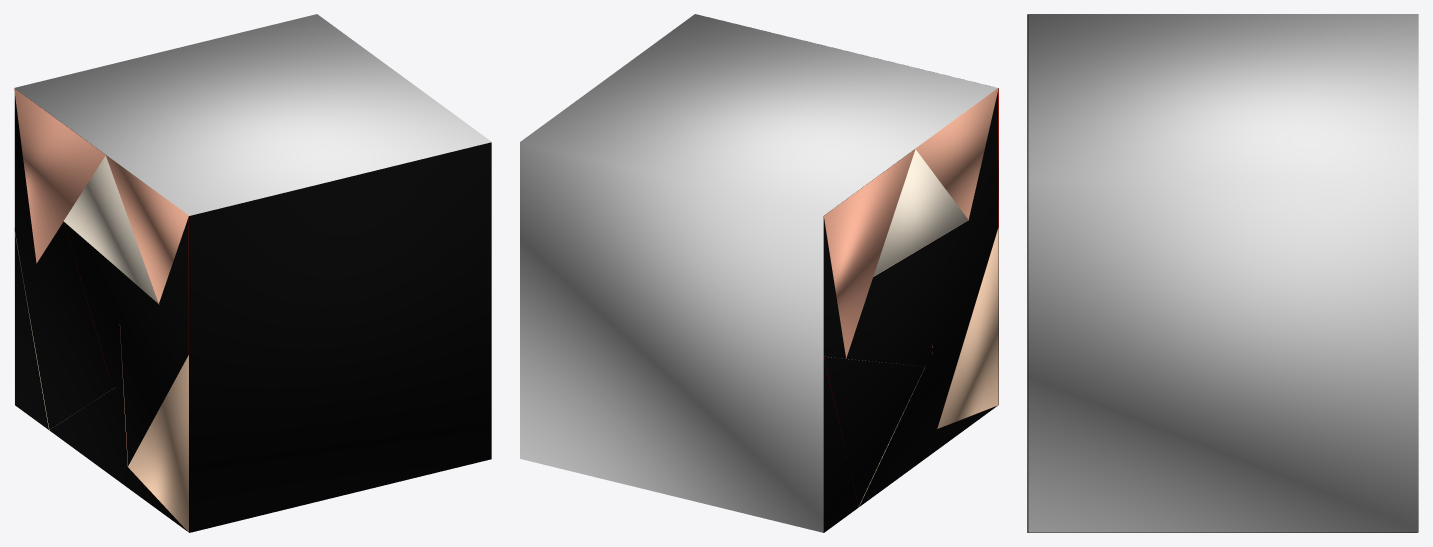
3 views of the same model, side by side, from view 1: azimuth 30°, elevation 25°; view 2: azimuth 150°, elevation 25°; view 3: azimuth 270°, elevation 25° (orthographic). The views are drawn at different scales.
Visible parts, largest first — view 1: Renderer Node; view 2: Renderer Node; view 3: Renderer Node.
Part boxes in pixels (<box>): Renderer Node: <box>14,14,491,532</box>; Renderer Node: <box>520,14,998,532</box>; Renderer Node: <box>1027,14,1418,532</box>.
Bounding box in the file's own units: 2.04 × 2.04 × 2.04.
